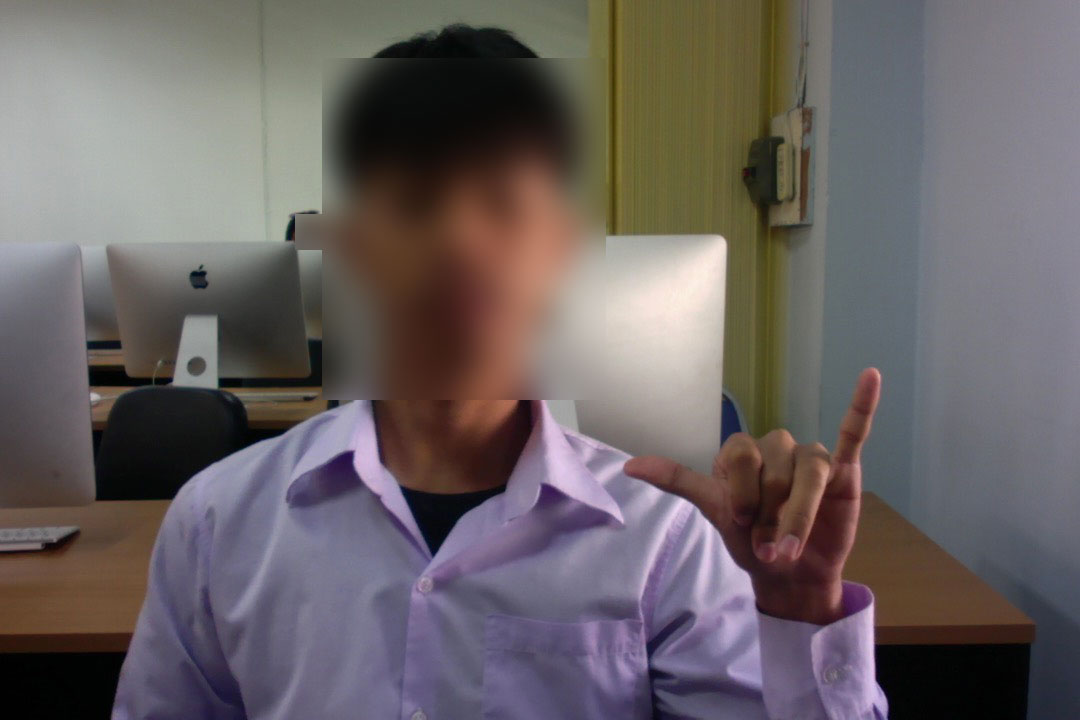yor: (621, 365, 891, 604)
